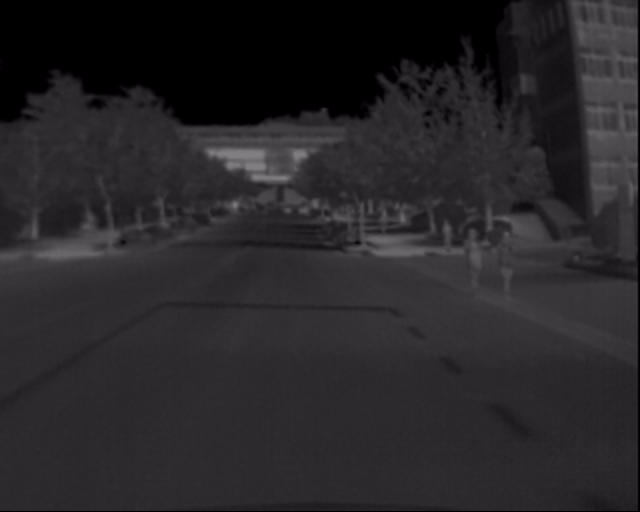person: (461, 227, 490, 299), (494, 225, 521, 301)
